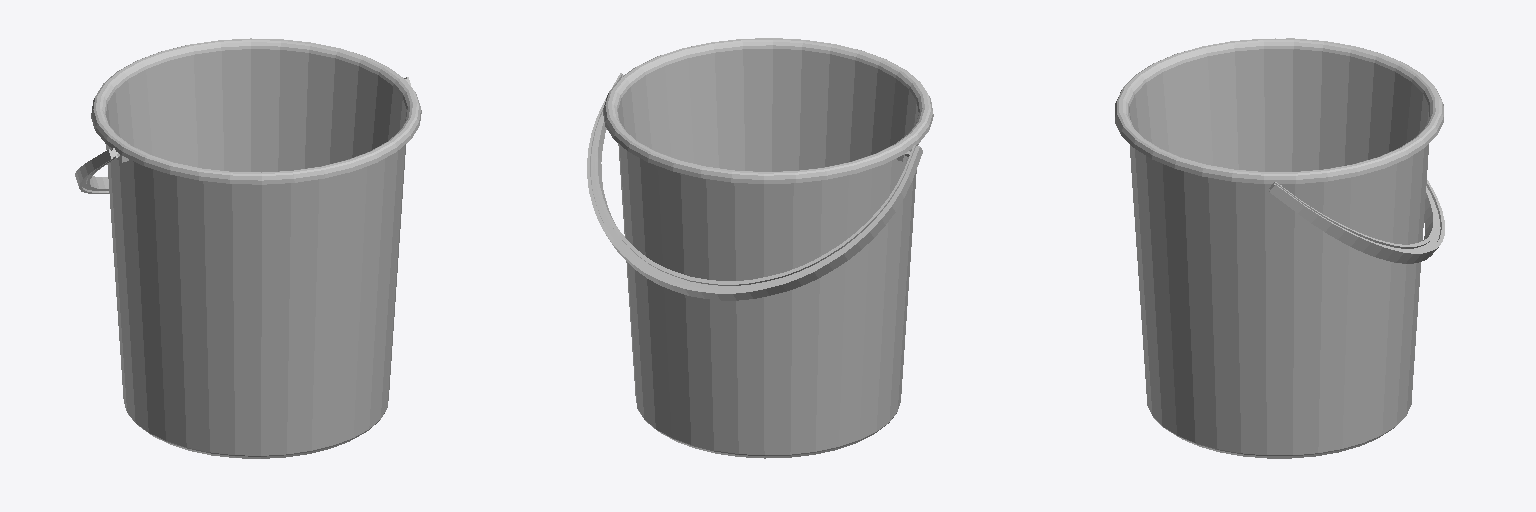
The model's file is uploads_files_3899193_plastic+bucket.obj.
3 renders of one model, left to right at view 1: azimuth 30°, elevation 25°; view 2: azimuth 150°, elevation 25°; view 3: azimuth 270°, elevation 25°, orthographic.
Parts seen in each view (by area): view 1: plastic_bucket.001, plastic_bucket; view 2: plastic_bucket.001, plastic_bucket; view 3: plastic_bucket.001, plastic_bucket.
Part boxes in pixels (bbox=[...]): plastic_bucket.001: bbox=[91, 38, 421, 458]; plastic_bucket: bbox=[75, 77, 410, 193]; plastic_bucket.001: bbox=[603, 38, 933, 458]; plastic_bucket: bbox=[587, 73, 922, 300]; plastic_bucket.001: bbox=[1115, 38, 1443, 458]; plastic_bucket: bbox=[1269, 38, 1444, 263].
Bounding box in the file's own units: 1.35 × 1.27 × 1.27.